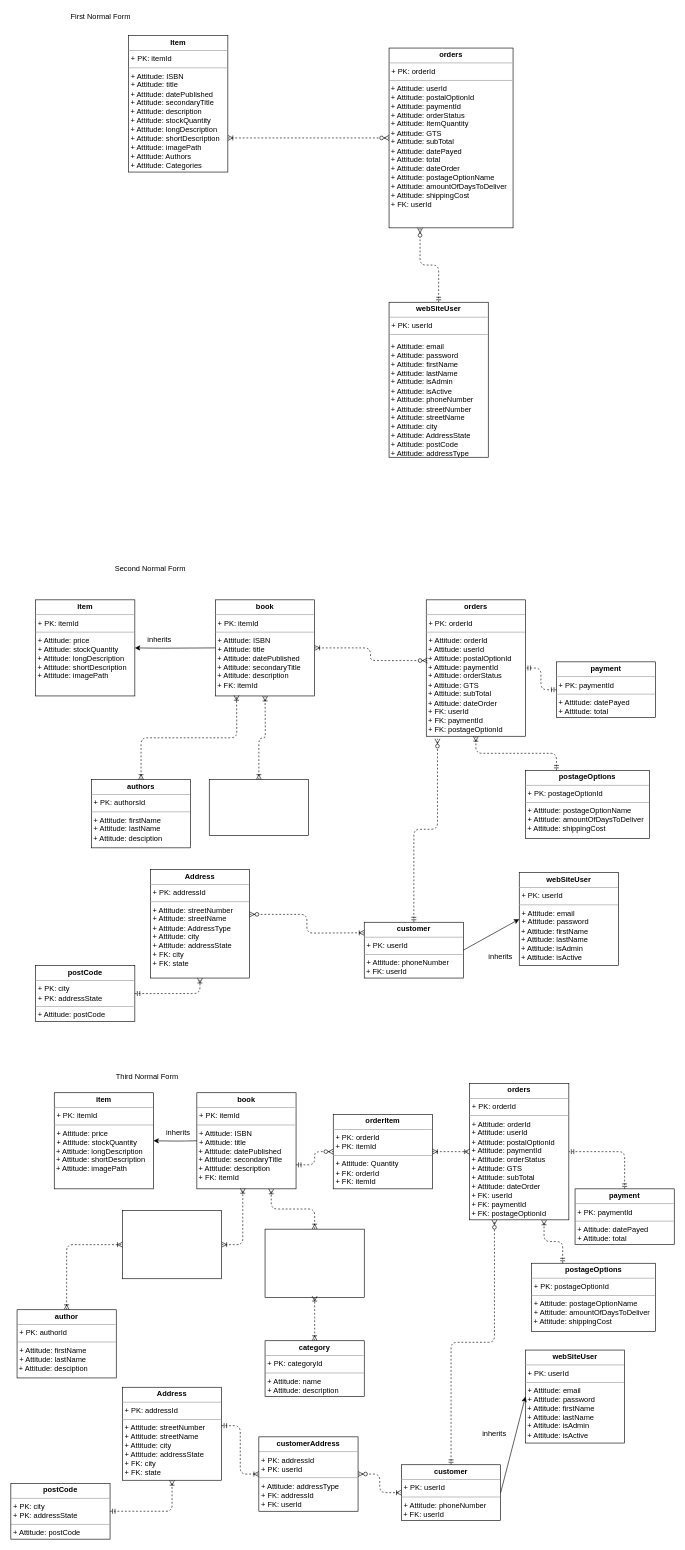
The diagram is 685 pixels wide and 1550 high, and some of its shapes have lost their labels. Here are the shapes that lost their labels. From the top down, the centre of each, then its label:
At point (258, 807): "categories + PK: categoriesId + Attitude: name + Attitude: description".
At point (172, 1244): "bookAuthor + PK: authorId + PK: itemId + FK: authorId + FK: itemId".
At point (314, 1263): "bookCategory + PK: categoryId + PK: itemId + FK: categoryId + FK: itemId".
